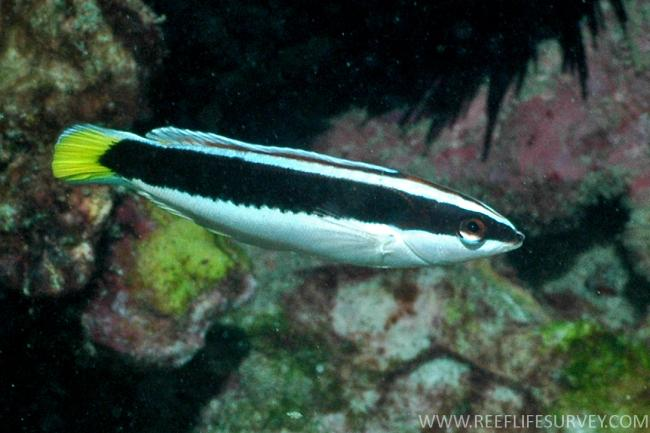fish: (51, 122, 525, 266)
